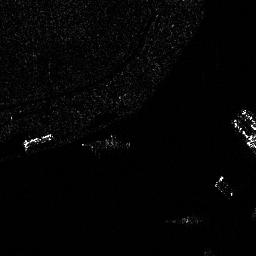ship: (22, 132, 54, 151)
